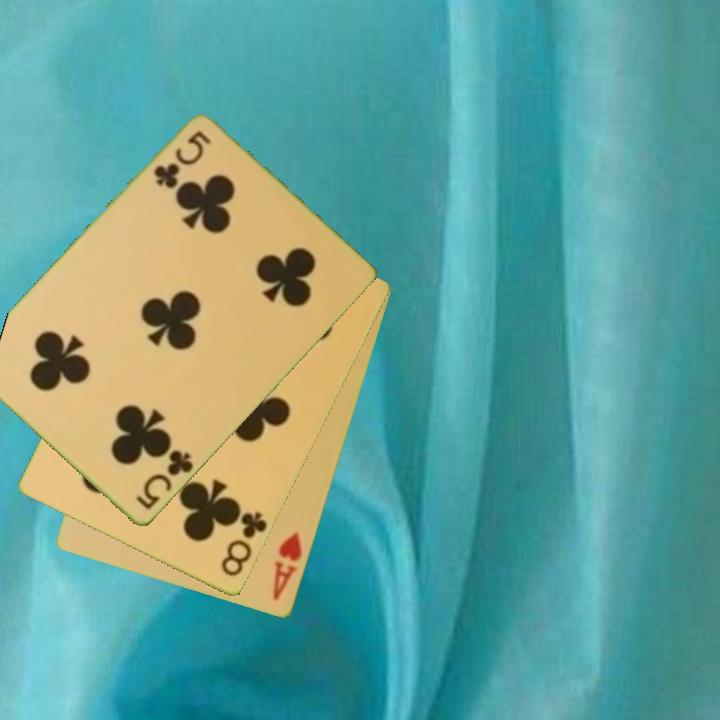5c: (131, 446, 196, 514), (150, 127, 215, 192)
8c: (217, 507, 270, 580)
Ah: (269, 529, 306, 604)
